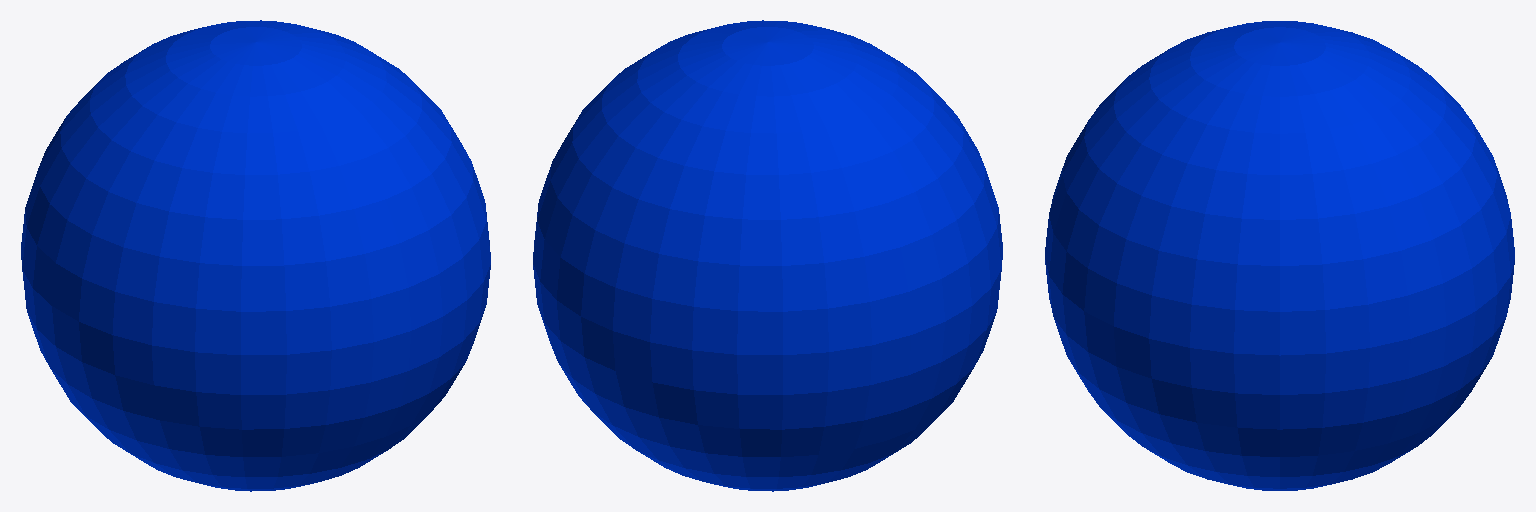
The robot description file, URDF, robot "ball":
<robot name="ball">

    <material name="color">
        <color rgba="0.011764705882352941 0.2627450980392157 0.8745098039215686 1.0" />
    </material>

	<link name="base_link">
		<visual>
			<geometry>
				<sphere radius="0.6"/>
			</geometry>
			<material name="color"/>
		</visual>
		<collision>
			<geometry>
				<sphere radius="0.6"/>
			</geometry>		
		</collision>
		<inertial>
			<mass value = "1"/>
			<inertia
				ixx = "0.6667"
				ixy = "0"
				ixz = "0"
				iyy = "0.6667"
				iyz = "0"
				izz = "0.6667"
			/>	
		</inertial>
	</link>	

</robot>

--- What the picture shows (computed from the rendered views, not written in the file) ---
3 views of the same robot in one strip: view 1: azimuth 30°, elevation 25°; view 2: azimuth 150°, elevation 25°; view 3: azimuth 270°, elevation 25° (orthographic).
Model ball with 1 links and 0 joints (none), rooted at base_link, posed all joints at 0.
Links seen in each view (by area): view 1: base_link; view 2: base_link; view 3: base_link.
Link boxes in pixels (left/top/right/bottom): base_link: left=21, top=20, right=490, bottom=491; base_link: left=533, top=20, right=1002, bottom=491; base_link: left=1045, top=21, right=1514, bottom=490.
Size in the robot's own frame: 1.2 by 1.2 by 1.2 metres.
Geometry: primitives only (box / cylinder / sphere), no mesh files.